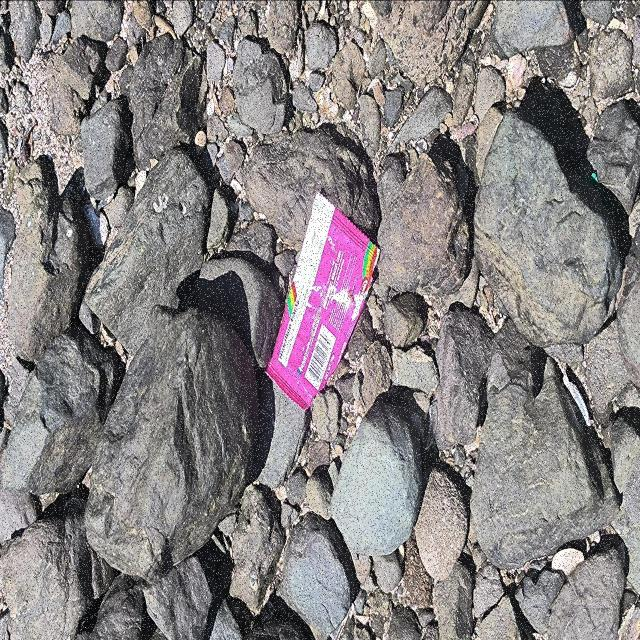plastic_waste: (267, 191, 384, 412)
